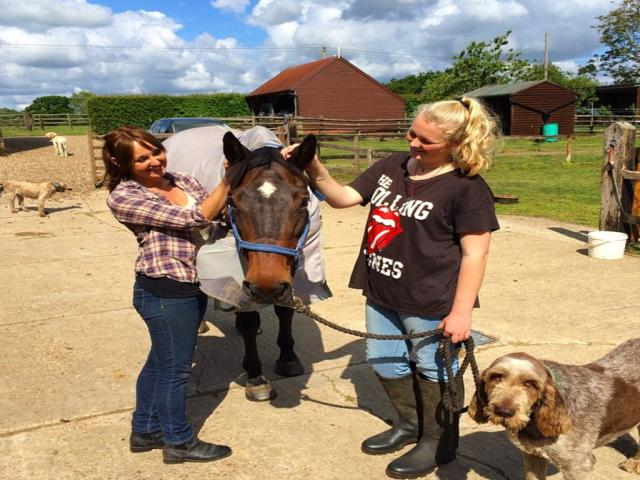Dog: (467, 338, 639, 480), (0, 178, 70, 218), (42, 130, 68, 158)
